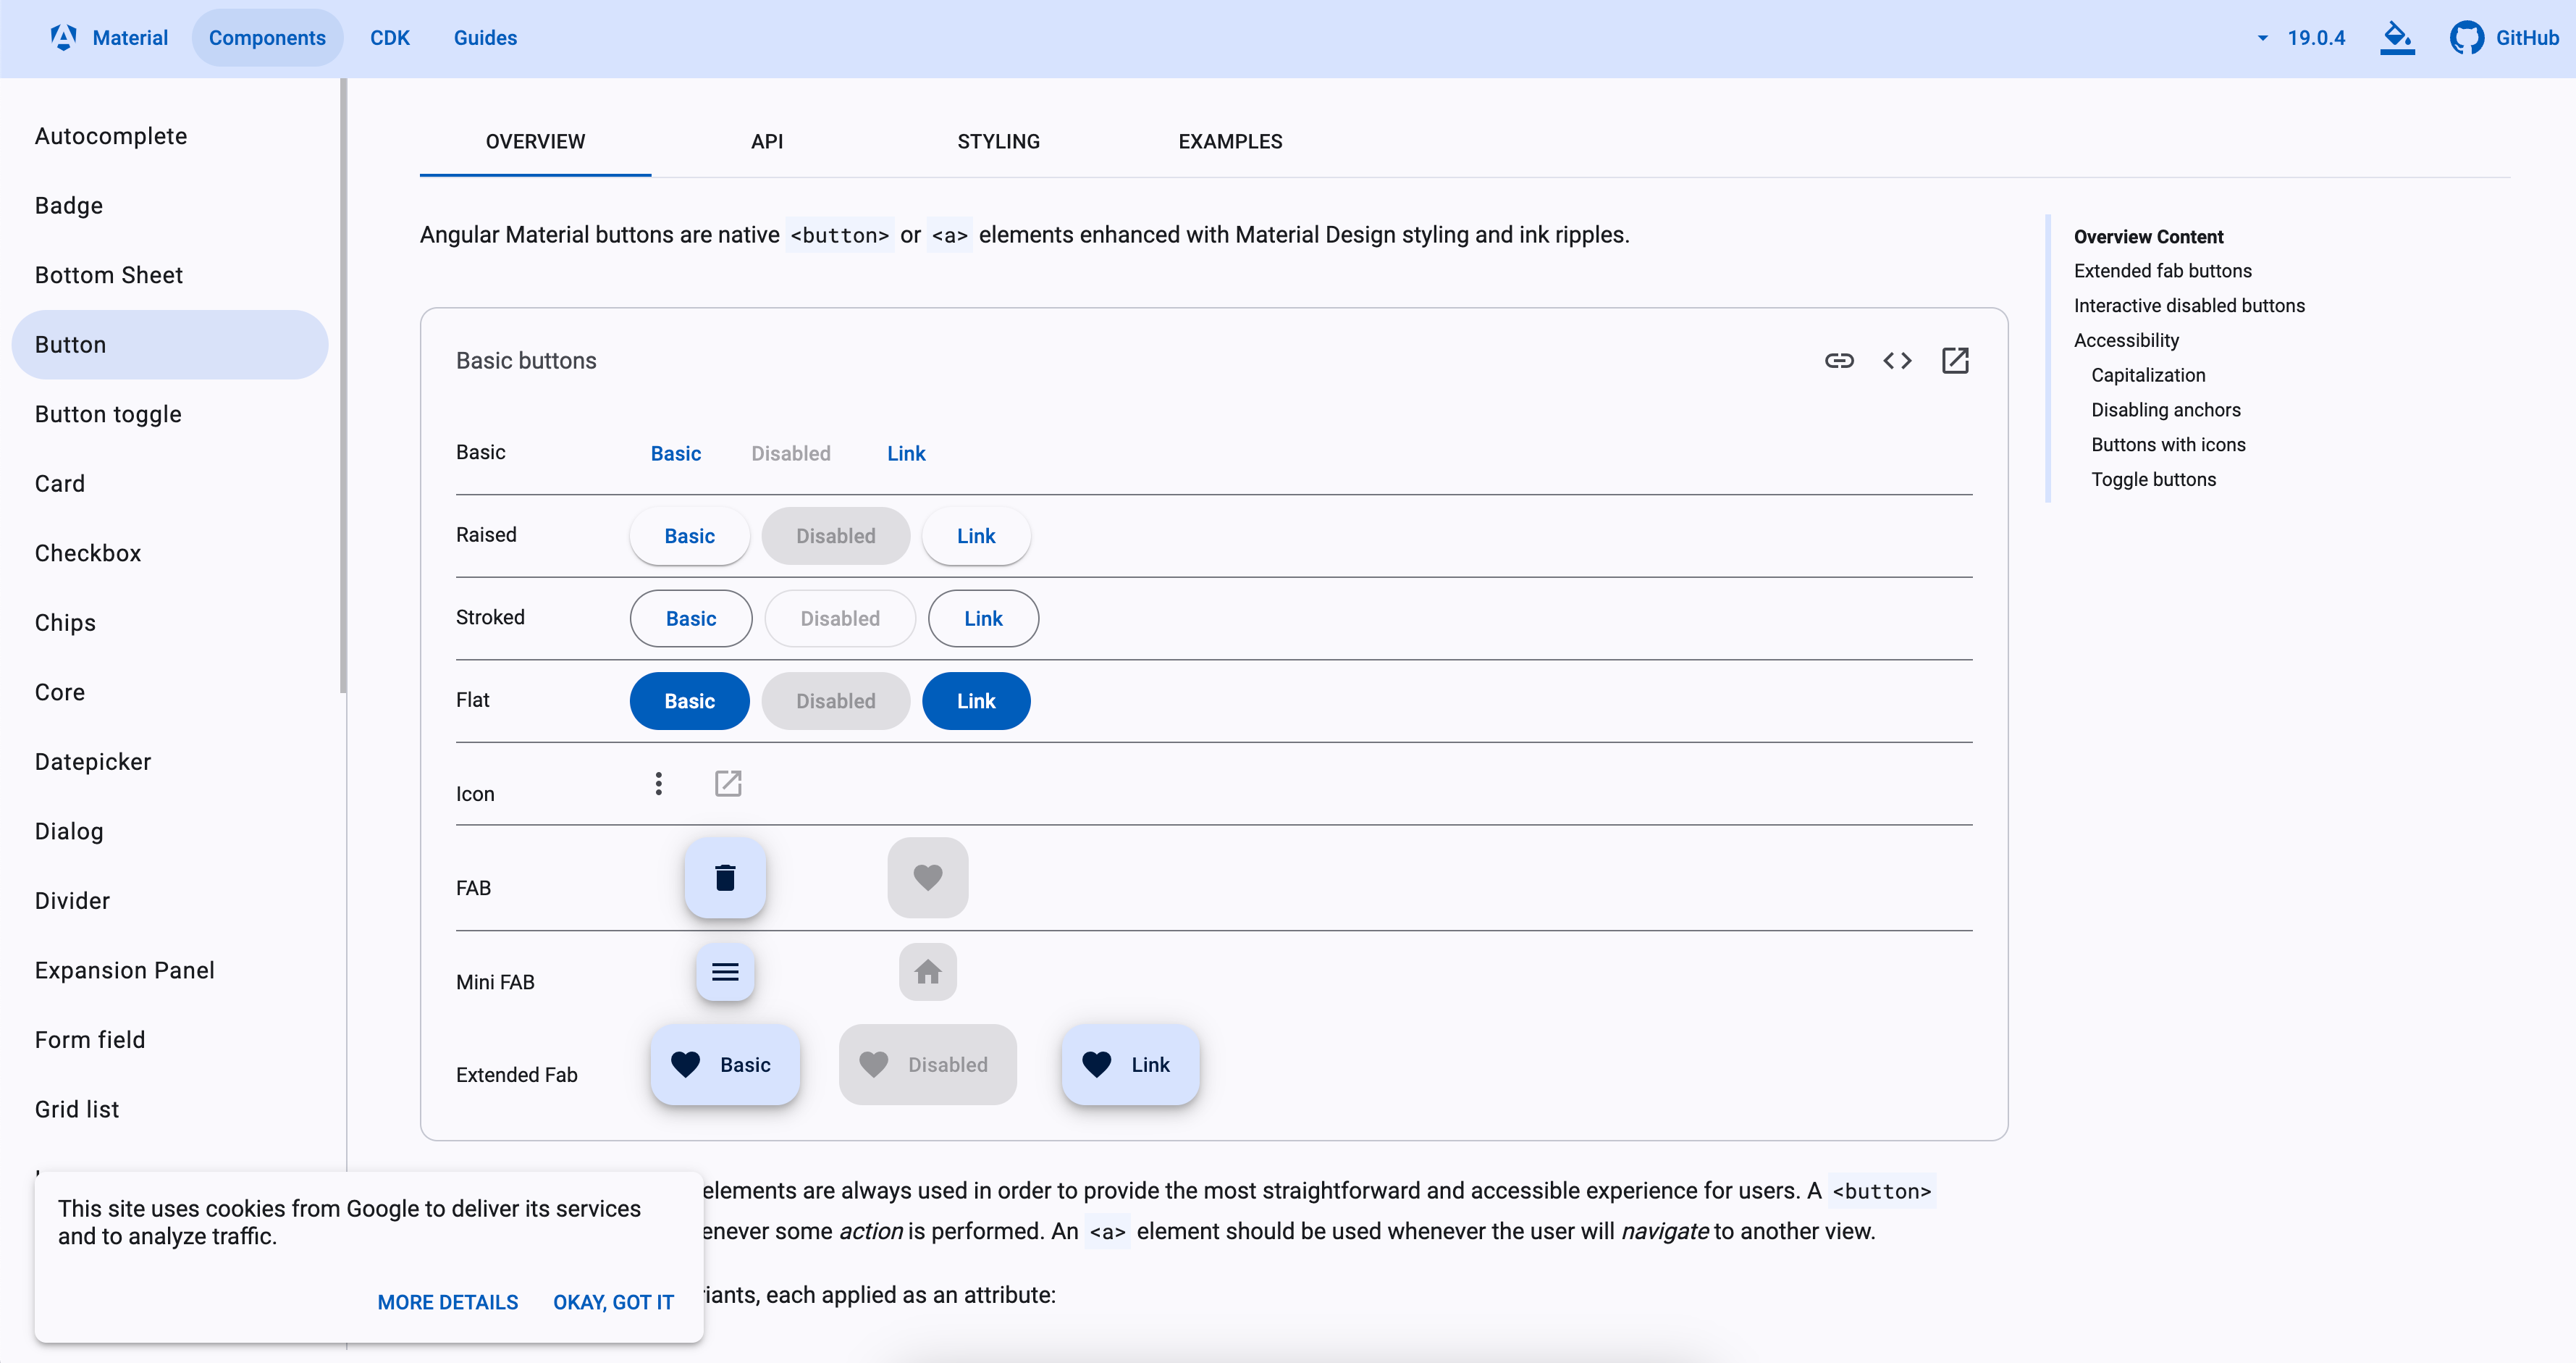button: (840, 1022, 1019, 1107), (647, 1024, 802, 1107), (1063, 1022, 1203, 1106), (765, 588, 918, 649), (763, 506, 913, 567), (760, 671, 913, 731), (627, 503, 755, 567), (918, 503, 1034, 569), (681, 835, 770, 922), (630, 589, 755, 649), (886, 835, 971, 920), (627, 673, 751, 731), (929, 589, 1041, 649), (922, 671, 1032, 729), (693, 942, 758, 1005), (898, 942, 957, 1000)
label: (801, 607, 881, 630), (797, 690, 876, 712), (796, 526, 879, 547), (911, 1055, 988, 1075), (663, 525, 716, 547), (664, 608, 717, 630), (721, 1055, 772, 1077), (663, 693, 717, 710), (963, 607, 1003, 629), (954, 692, 998, 712), (956, 526, 998, 547), (1133, 1056, 1172, 1075)
